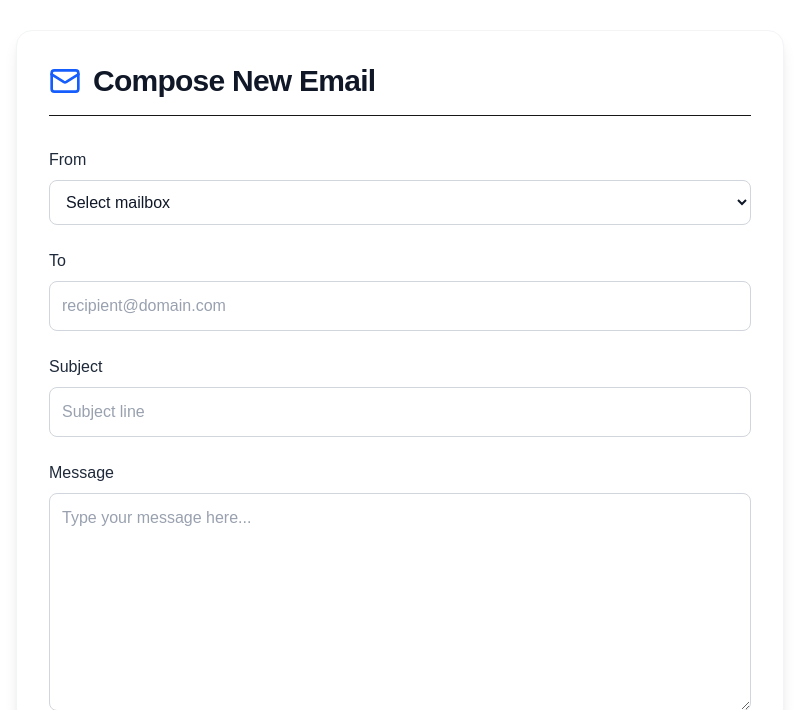
Test: ComposePage › clears form when clicking Clear button
expect the heading "Compose New Email" is shown: met, box [93,63,375,99]
Select "test1@example.com" in the dropdown at (400, 202), box [49,180,751,225]
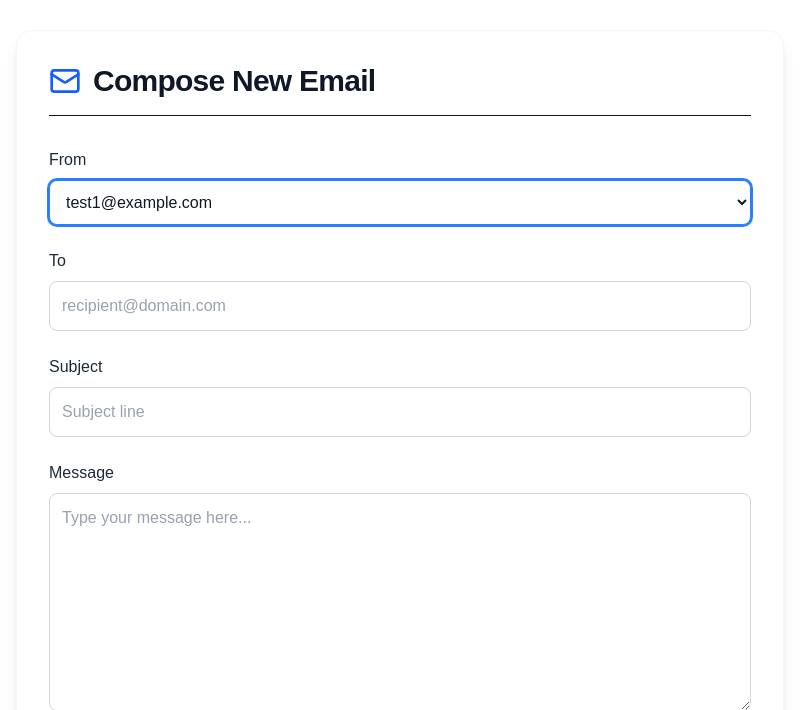
Type "test@example.com" into the field with placeholder "recipient@domain.com" at (400, 306), box [49,281,751,331]
(page scrolled)
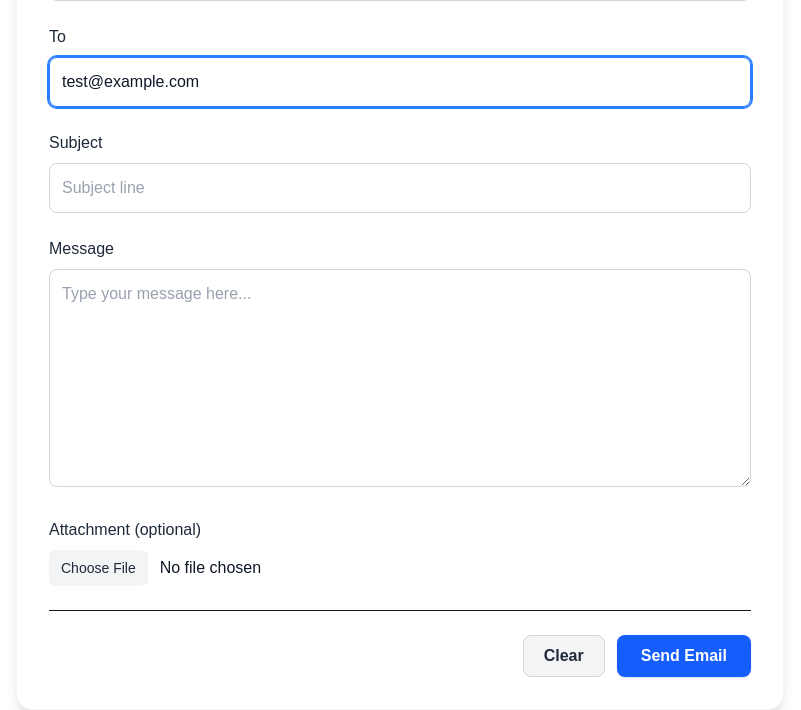
Click the button "Clear" at (564, 656), box [523,635,605,677]
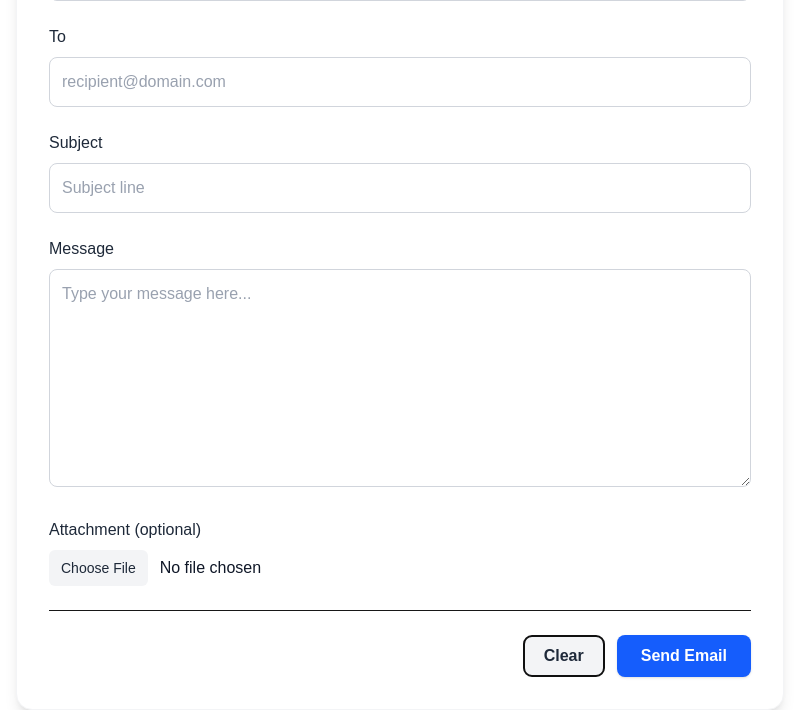
expect the field with placeholder "recipient@domain.com" is empty: met, box [49,57,751,107]
